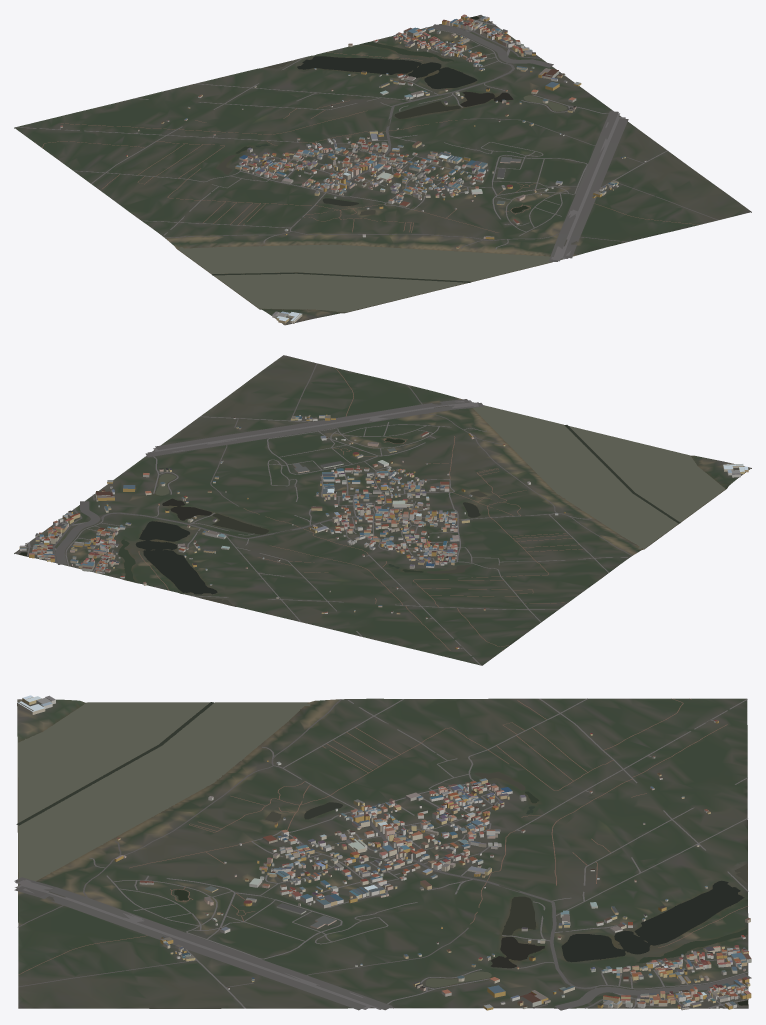
The picture shows the model from 3 angles, top to bottom: view 1: azimuth 30°, elevation 25°; view 2: azimuth 150°, elevation 25°; view 3: azimuth 270°, elevation 25°; orthographic projection. The views are drawn at different scales.
Parts seen in each view (by area): view 1: ground, water, roads, buildings; view 2: ground, water, roads, buildings; view 3: ground, water, buildings, roads.
Part boxes in pixels (box(x1,y1,x2,y2)): ground: box(14, 15, 751, 325); water: box(177, 16, 566, 312); roads: box(15, 15, 718, 325); buildings: box(60, 14, 646, 323); ground: box(14, 355, 751, 665); water: box(19, 402, 725, 605); roads: box(16, 363, 751, 665); buildings: box(19, 414, 748, 649); ground: box(17, 698, 748, 1008); water: box(16, 702, 747, 1005); buildings: box(17, 695, 751, 1010); roads: box(14, 698, 751, 1010).
Bounding box in the file's own units: 1414 × 27.12 × 1417.
